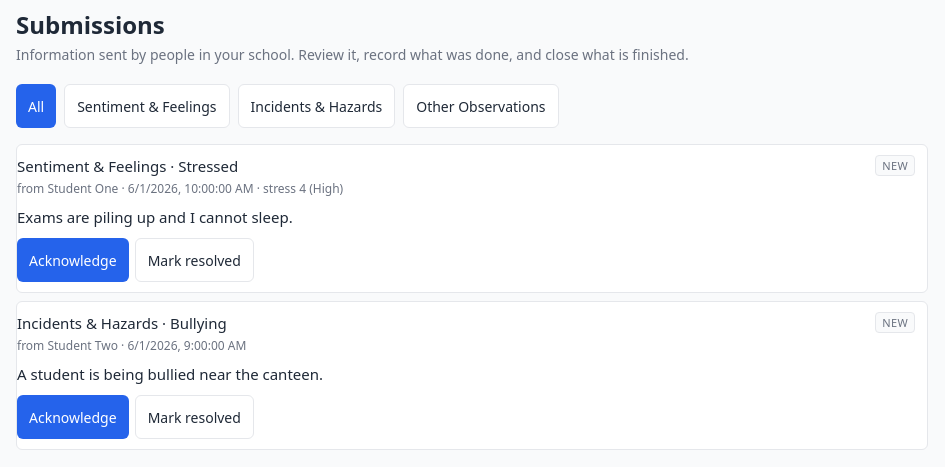
Test: Submissions › filters by category
Click the button "Sentiment & Feelings": [147, 106] box left=64, top=84, right=230, bottom=128
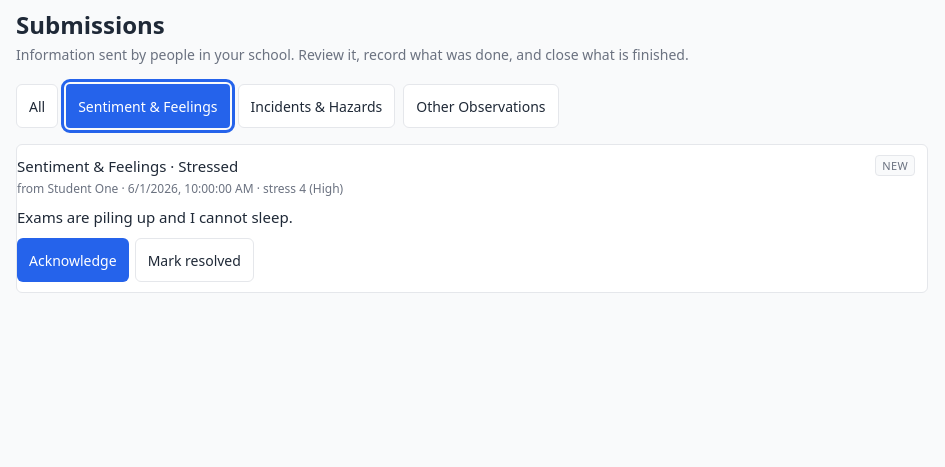
Expected: the text "Sentiment & Feelings · Stressed" is shown, left=17, top=156, right=238, bottom=176
Result: the text "Incidents & Hazards · Bullying" is gone
